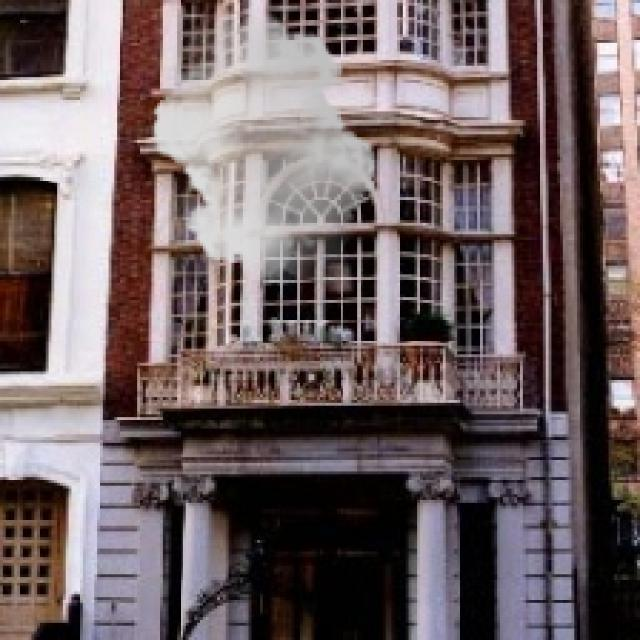Smoke: (143, 8, 386, 286)
